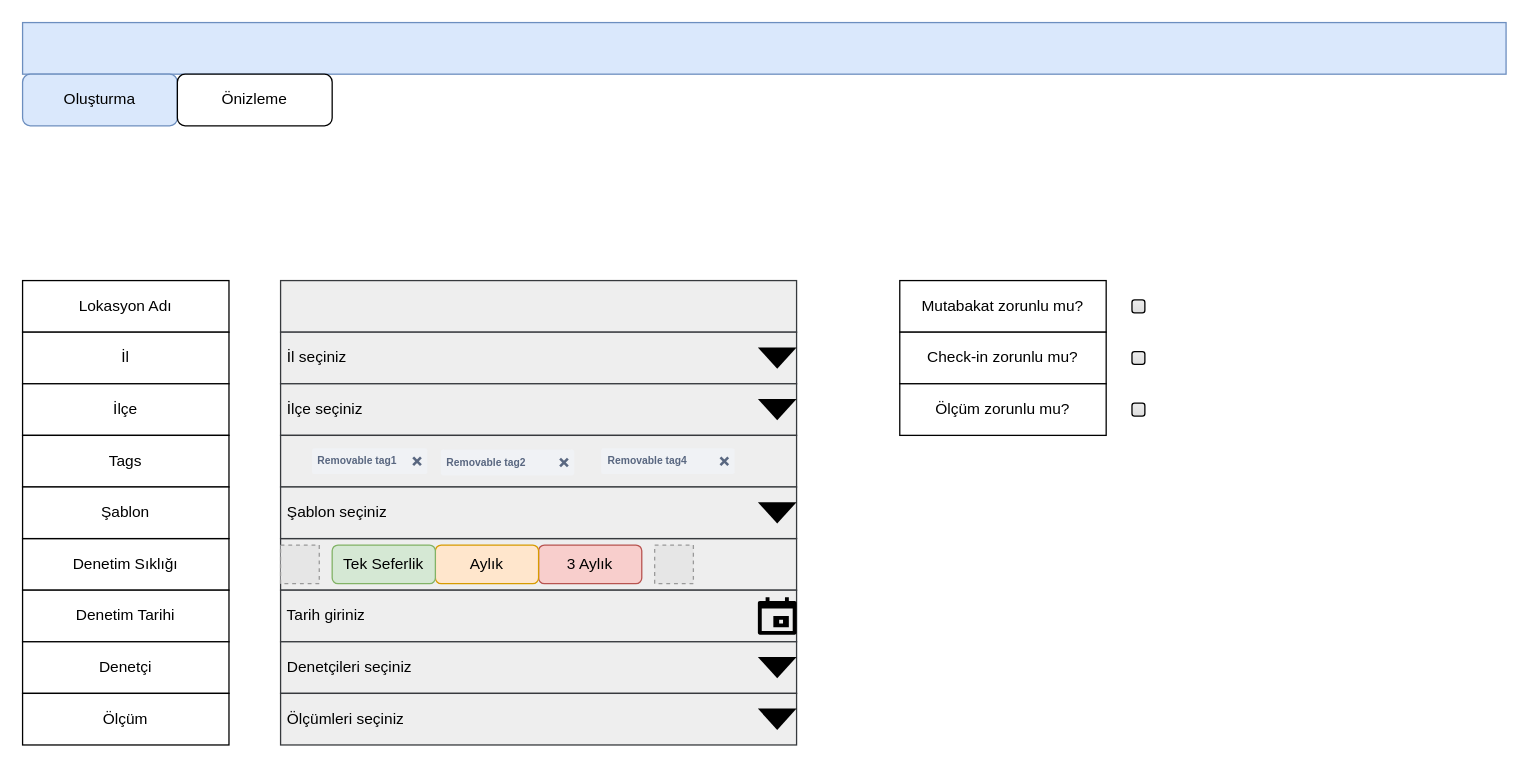
Image size: 1529x768. Some labels were removed from this diagram. Grey dashed boxes stand in for pictures. The shapes that lost their labels are listed below. From the top down, each one's box as (x1, y1, x2, y2) in pixels, then its label:
(21, 21, 1506, 74): Denetim Planlama Sayfası
(279, 279, 797, 332): Lokasyon adını giriniz
